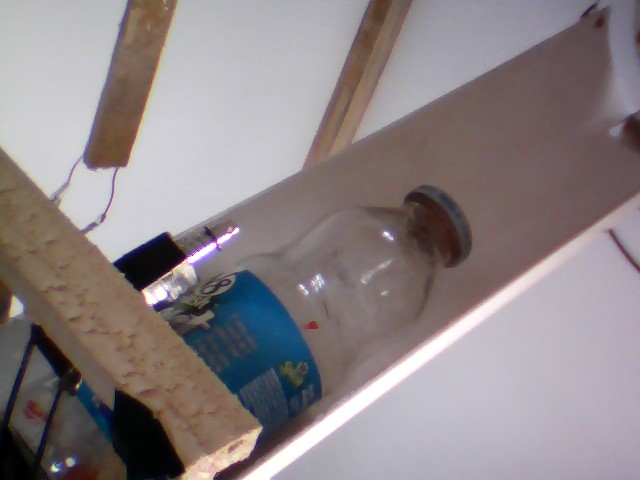vidrio: (172, 177, 481, 432)
